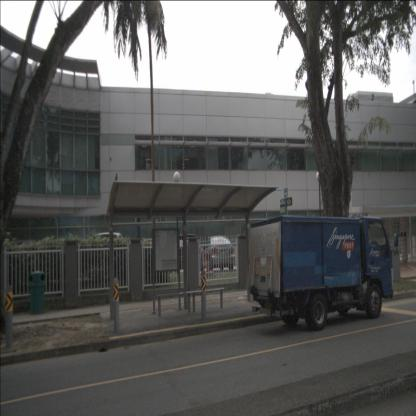vehicle-car: (198, 235, 236, 272)
vehicle-truck: (248, 214, 395, 331)
